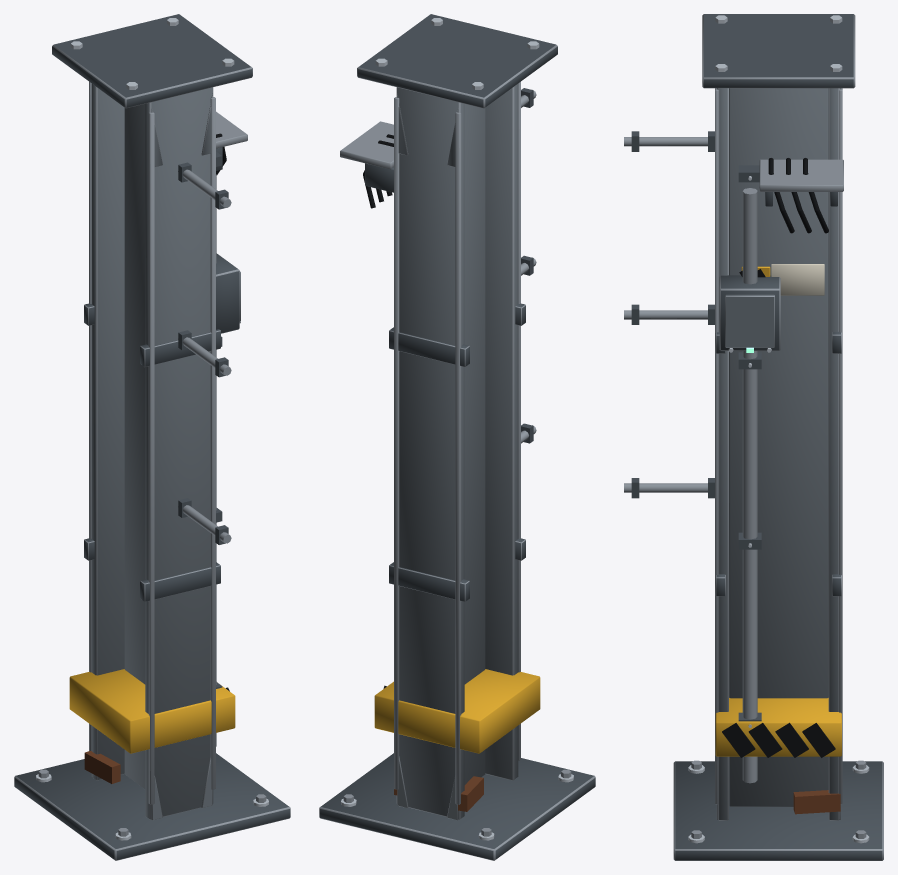
The model's file is columna_estructural.glb.
3 views of the same model, side by side, from view 1: azimuth 30°, elevation 25°; view 2: azimuth 150°, elevation 25°; view 3: azimuth 270°, elevation 25° (orthographic). The views are drawn at different scales.
Parts seen in each view (by area): view 1: ala_1, ala_2, placa_base, alma, capitel, banda_peligro, soldadura_1, soldadura_2, soldadura_3, caja_conexion, refuerzo_fuste_1, refuerzo_fuste_2 (+2 smaller); view 2: ala_2, ala_1, placa_base, alma, capitel, banda_peligro, soldadura_3, soldadura_4, soldadura_1, bandeja, refuerzo_fuste_3, refuerzo_fuste_4 (+2 smaller); view 3: alma, placa_base, capitel, conducto, ala_1, ala_2, banda_peligro, tapa_caja, soldadura_2, bandeja, soldadura_4, caja_conexion (+9 smaller).
Part boxes in pixels (x1,y1,x2,y2): ala_1: (145,87,213,819); ala_2: (91,84,124,780); placa_base: (14,753,290,860); alma: (124,104,145,788); capitel: (52,14,252,108); banda_peligro: (69,669,235,753); soldadura_1: (148,112,154,804); soldadura_2: (210,97,215,789); soldadura_3: (89,82,91,750); caja_conexion: (216,253,239,333); refuerzo_fuste_1: (140,562,220,601); refuerzo_fuste_2: (140,329,220,366); ala_2: (396,87,464,819); ala_1: (485,84,518,780); placa_base: (319,753,595,860); alma: (464,104,485,784); capitel: (357,14,557,108); banda_peligro: (374,669,540,753); soldadura_3: (455,112,461,804); soldadura_4: (394,97,399,789); soldadura_1: (518,82,520,760); bandeja: (340,121,393,169); refuerzo_fuste_3: (389,562,469,601); refuerzo_fuste_4: (389,327,469,366); alma: (729,88,828,806); placa_base: (673,761,883,860); capitel: (702,14,855,88); conducto: (742,188,757,783); ala_1: (717,88,728,820); ala_2: (828,88,839,820); banda_peligro: (715,698,841,756); tapa_caja: (725,294,774,347); soldadura_2: (715,88,718,804); bandeja: (759,159,843,191); soldadura_4: (839,88,842,804); caja_conexion: (719,275,780,350).
Bounding box in the file's own units: 0.55 × 2.24 × 0.68.
